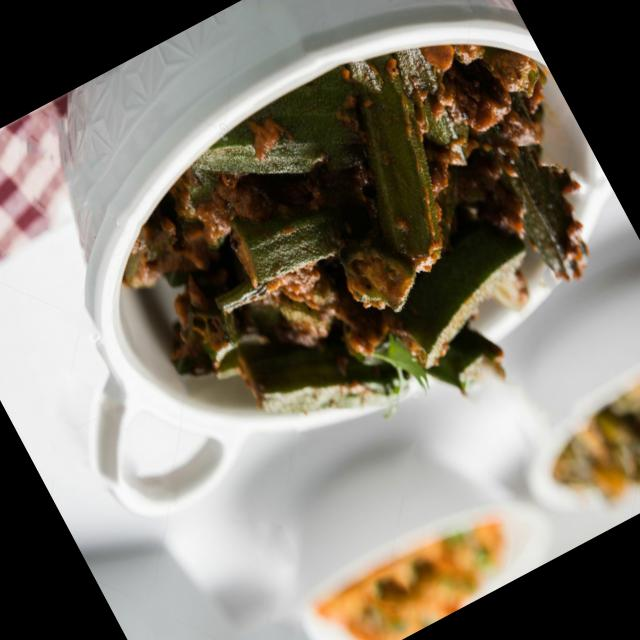BhindiMasala: (81, 0, 640, 514)
